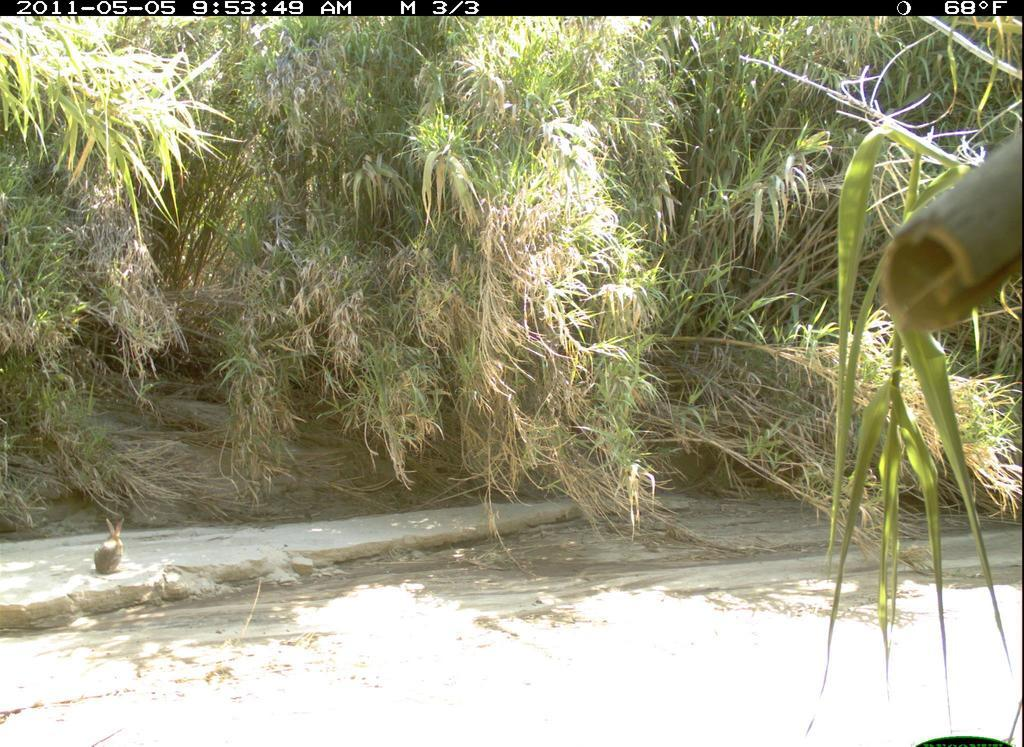rabbit: (90, 514, 131, 582)
